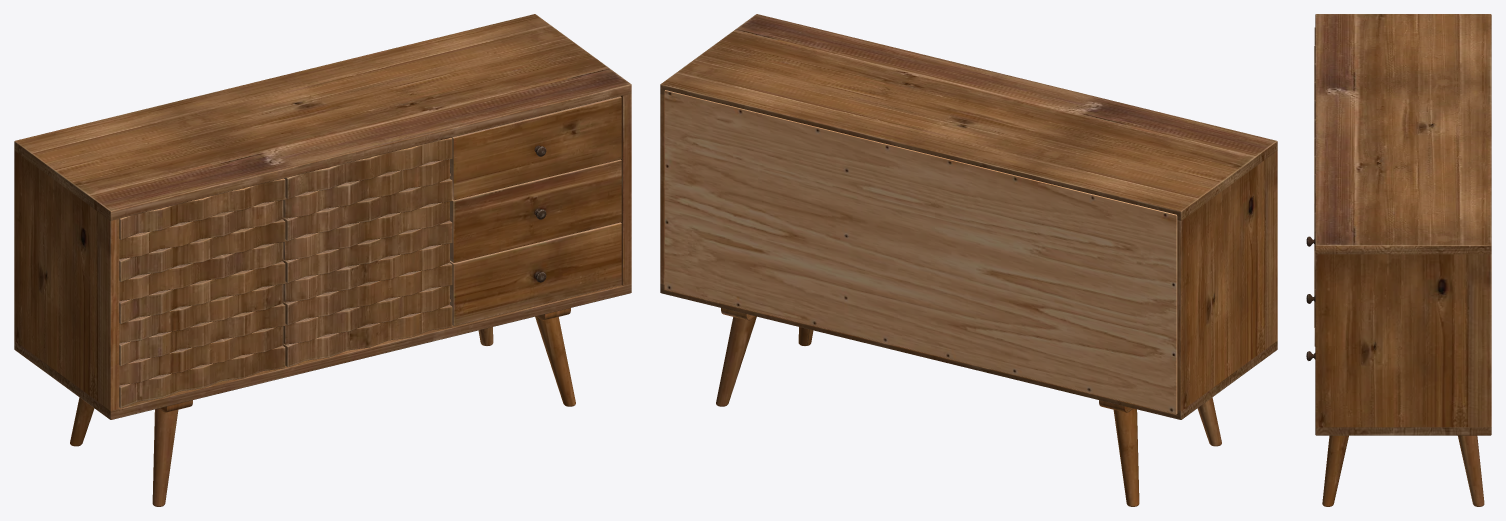
3 renders of one model, left to right at view 1: azimuth 30°, elevation 25°; view 2: azimuth 150°, elevation 25°; view 3: azimuth 270°, elevation 25°, orthographic. The views are drawn at different scales.
Visible parts, largest first — view 1: RootNode; view 2: RootNode; view 3: RootNode.
Boxes of the visible parts, x1=… form: RootNode: x1=14, y1=14, x2=631, y2=506; RootNode: x1=660, y1=14, x2=1277, y2=506; RootNode: x1=1306, y1=14, x2=1491, y2=506.
Size of the model in its own units: 1.4 by 0.8001 by 0.4722.
Materials: 1 (1 with a texture image).
